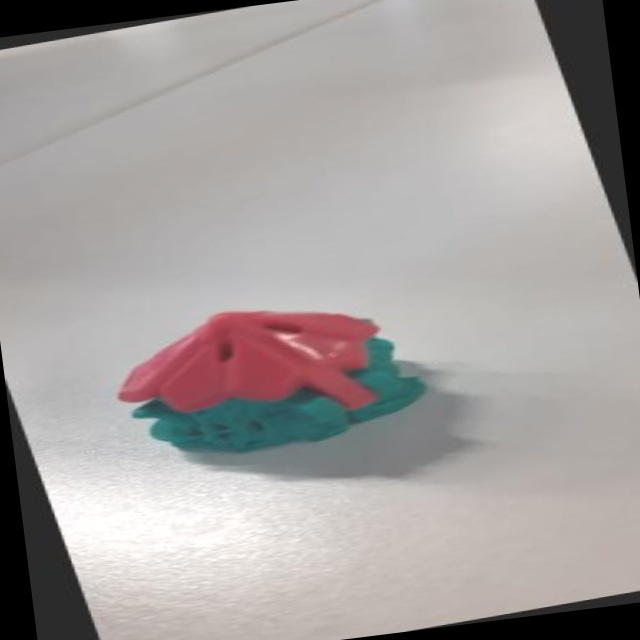House: (95, 276, 452, 475)
